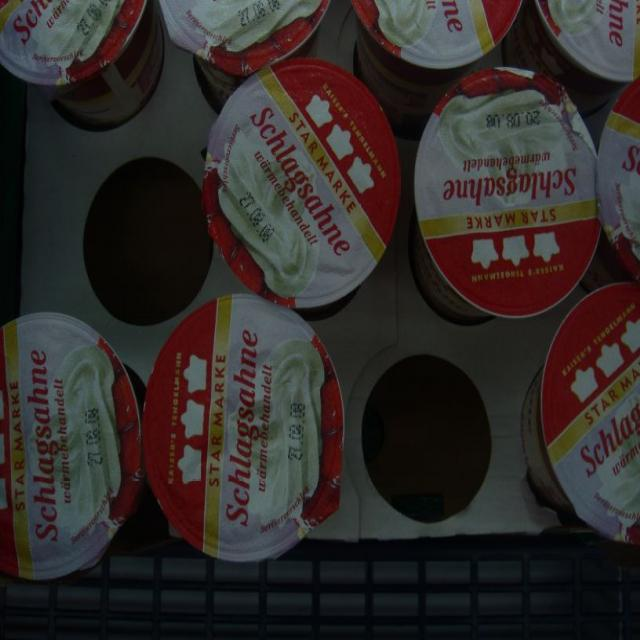Cream: (143, 295, 344, 562), (410, 67, 602, 325), (203, 59, 401, 309), (0, 313, 143, 581), (522, 283, 640, 545), (353, 0, 521, 138), (0, 1, 164, 128), (160, 0, 329, 110), (504, 1, 640, 113), (598, 78, 640, 281)
